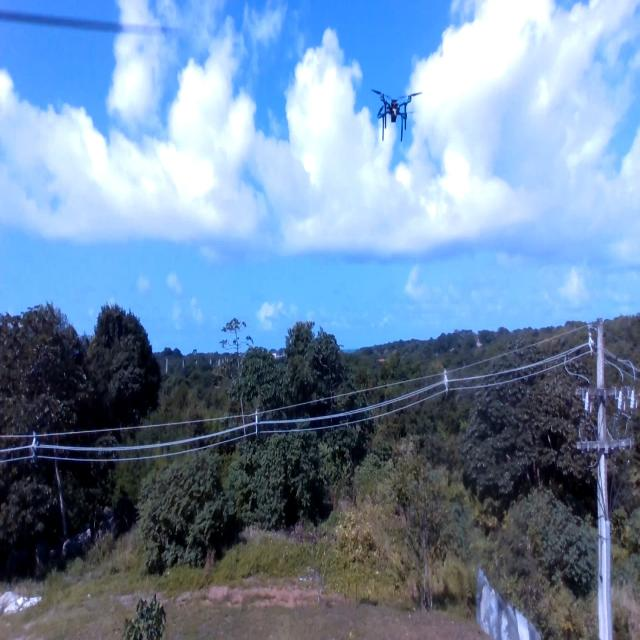-uav-: (367, 74, 426, 162)
